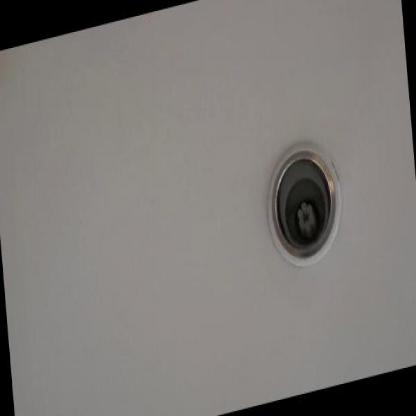light_off: (254, 98, 355, 282)
